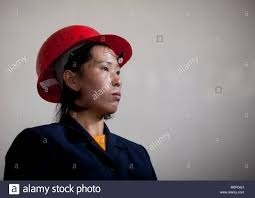helmet: (36, 25, 135, 77)
person with partial safety: (9, 23, 157, 180)
